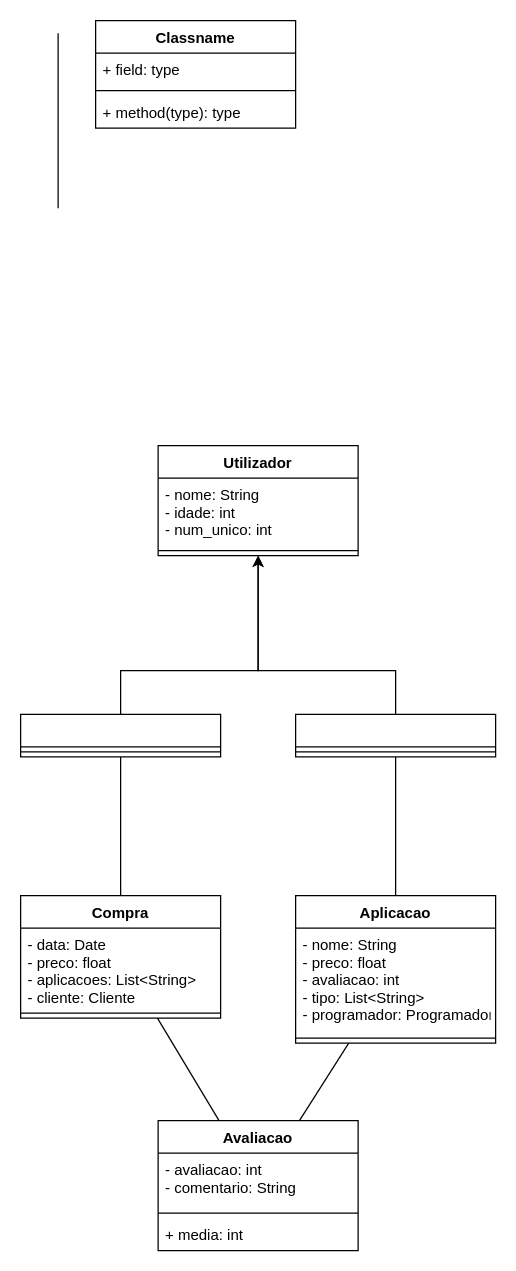
The diagram is 516 pixels wide and 1271 high, and some of its shapes have lost their labels. Each missing label, with the centre of its shape:
"Cliente" goes at point 120,735.
"Programador" goes at point 395,735.
